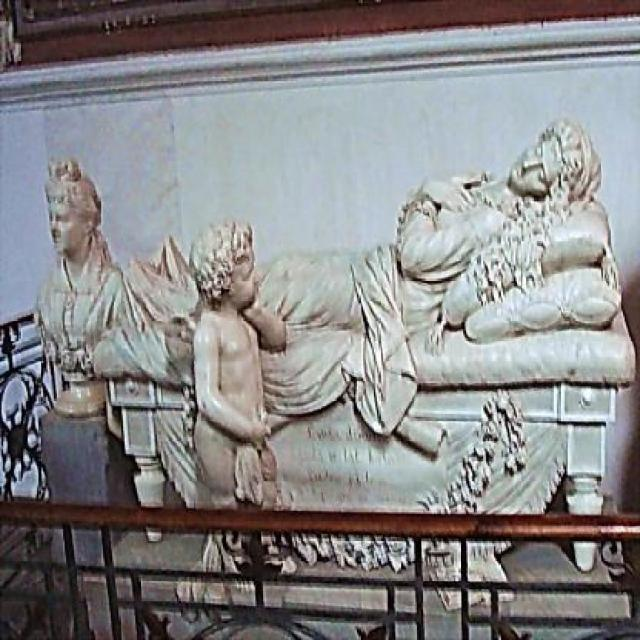Person: (112, 110, 602, 333), (171, 209, 287, 554), (32, 157, 125, 378)
